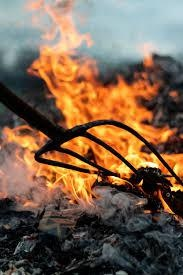fire: (17, 28, 181, 201)
